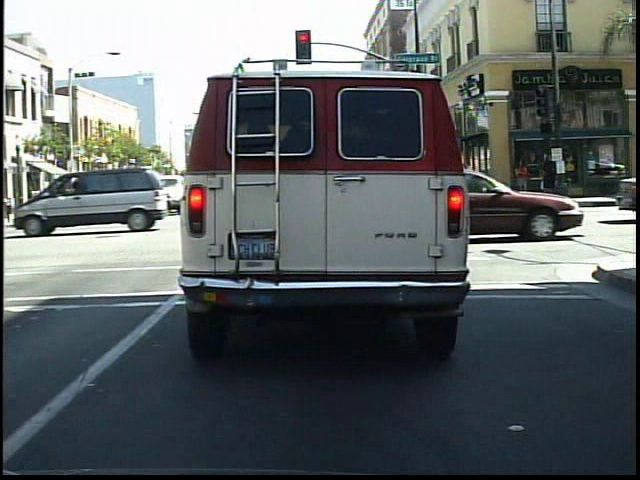person: (538, 152, 562, 199), (512, 156, 534, 194)
